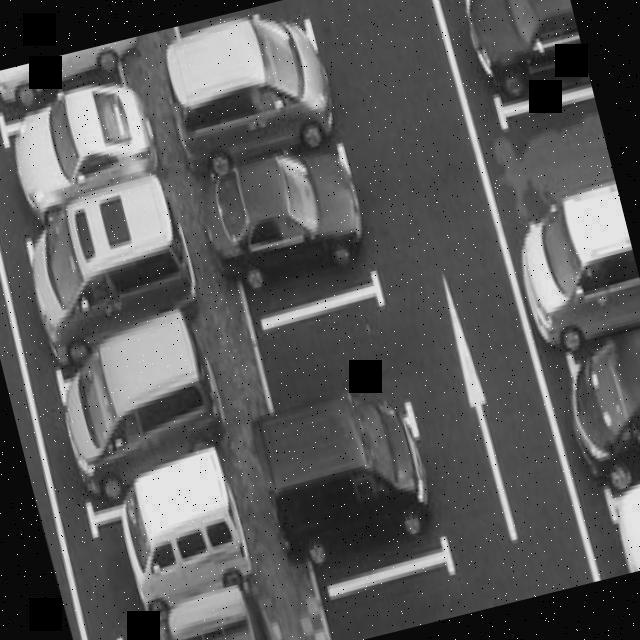car: (276, 424, 452, 590), (210, 148, 378, 316), (79, 492, 252, 636), (22, 214, 188, 364), (175, 6, 338, 158), (48, 346, 210, 498), (503, 199, 640, 356), (0, 92, 138, 221), (437, 0, 589, 110), (544, 343, 640, 491), (581, 474, 640, 579), (101, 610, 254, 640)
free: (250, 282, 420, 460), (469, 80, 618, 224), (314, 568, 469, 640)
